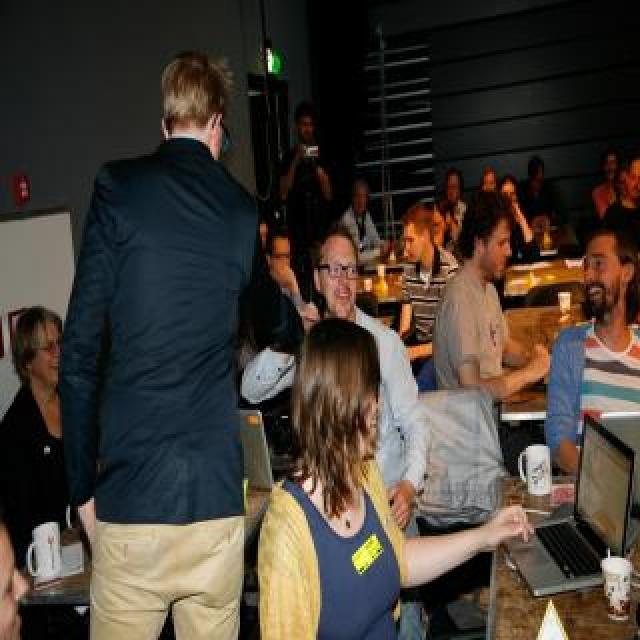laptop_computer: (485, 411, 640, 633)
smart phone: (282, 129, 334, 166)
